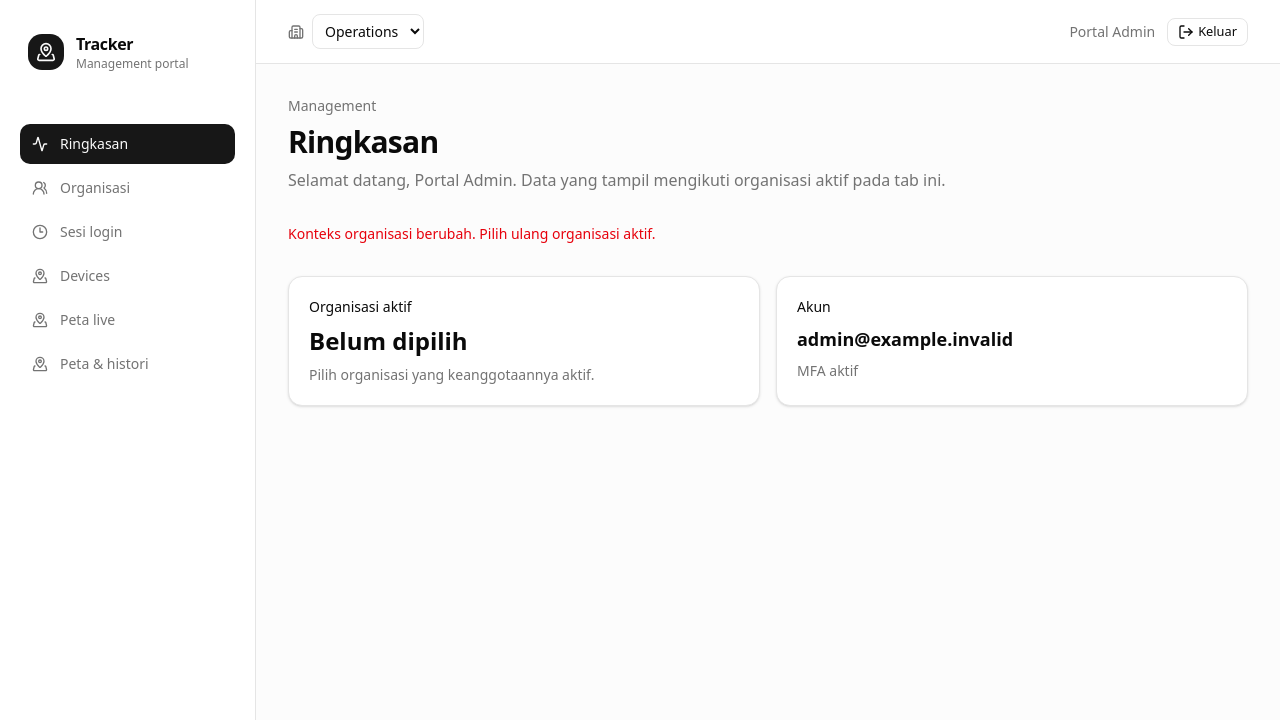
it: tracking management portal › shows operator actions only for the device grants returned by the API
Step 1. Click the link "Devices" → {"x": 71, "y": 276}, box [32, 266, 110, 285]
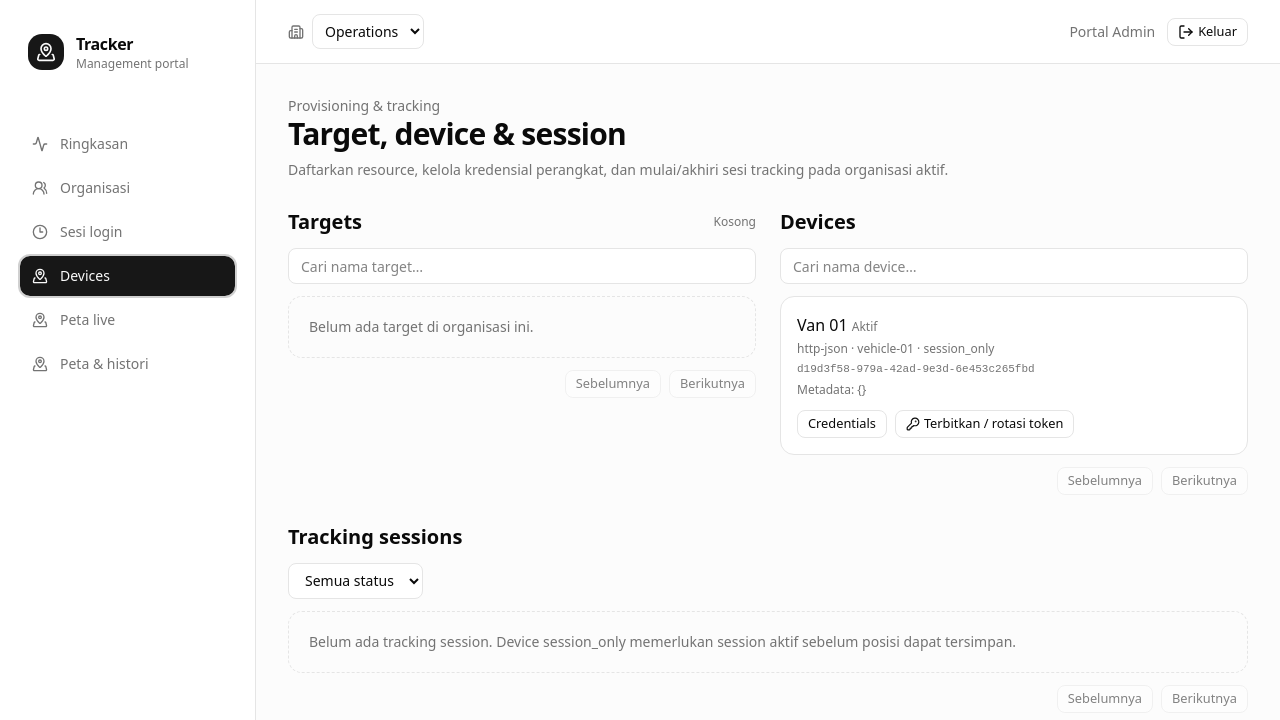
Result: the button "Terbitkan / rotasi token" is shown at [895, 410, 1074, 438]
